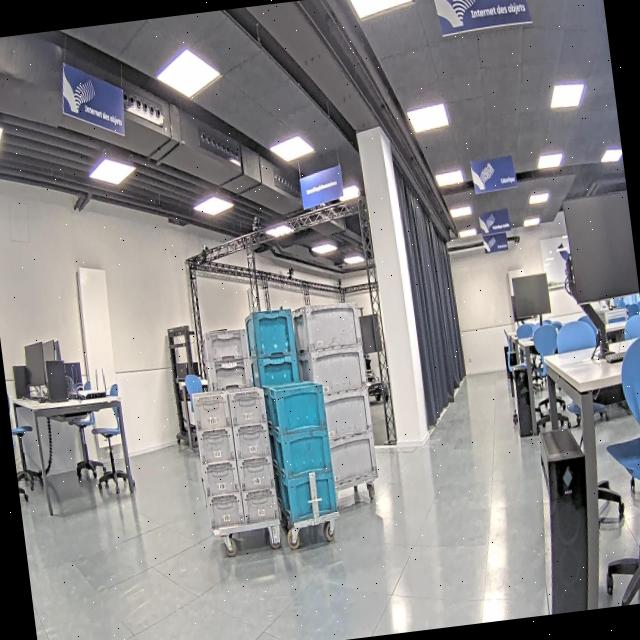Box3G: (200, 326, 268, 510)
Box4G: (288, 298, 381, 498)
Box8G: (190, 383, 280, 531)
BoxB4: (242, 306, 314, 504)
BoxB8: (260, 375, 340, 526)
